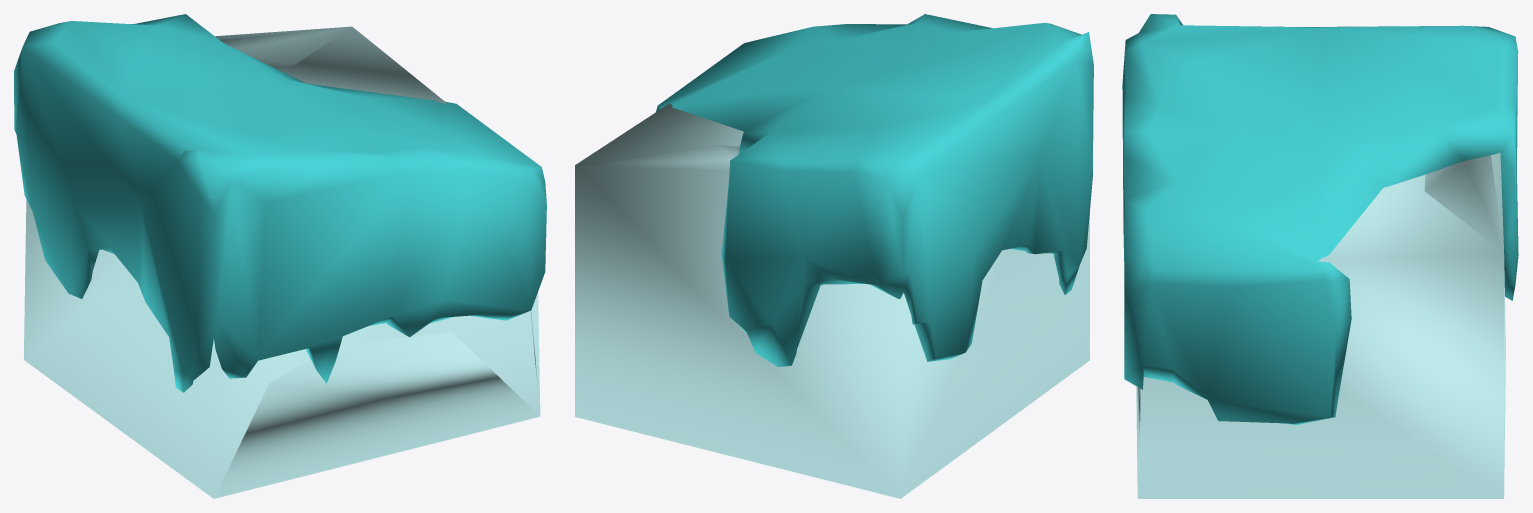
Rendered from Block_MELTING.glb.
The picture shows the model from 3 angles, left to right: view 1: azimuth 30°, elevation 25°; view 2: azimuth 150°, elevation 25°; view 3: azimuth 270°, elevation 25°; orthographic projection. The views are drawn at different scales.
Visible parts, largest first — view 1: BlockMelting; view 2: BlockMelting; view 3: BlockMelting.
Boxes of the visible parts, <box> form: BlockMelting: <box>14,14,546,498</box>; BlockMelting: <box>575,14,1093,498</box>; BlockMelting: <box>1122,14,1518,498</box>.
Size of the model in its own units: 2.13 by 1.95 by 2.14.
